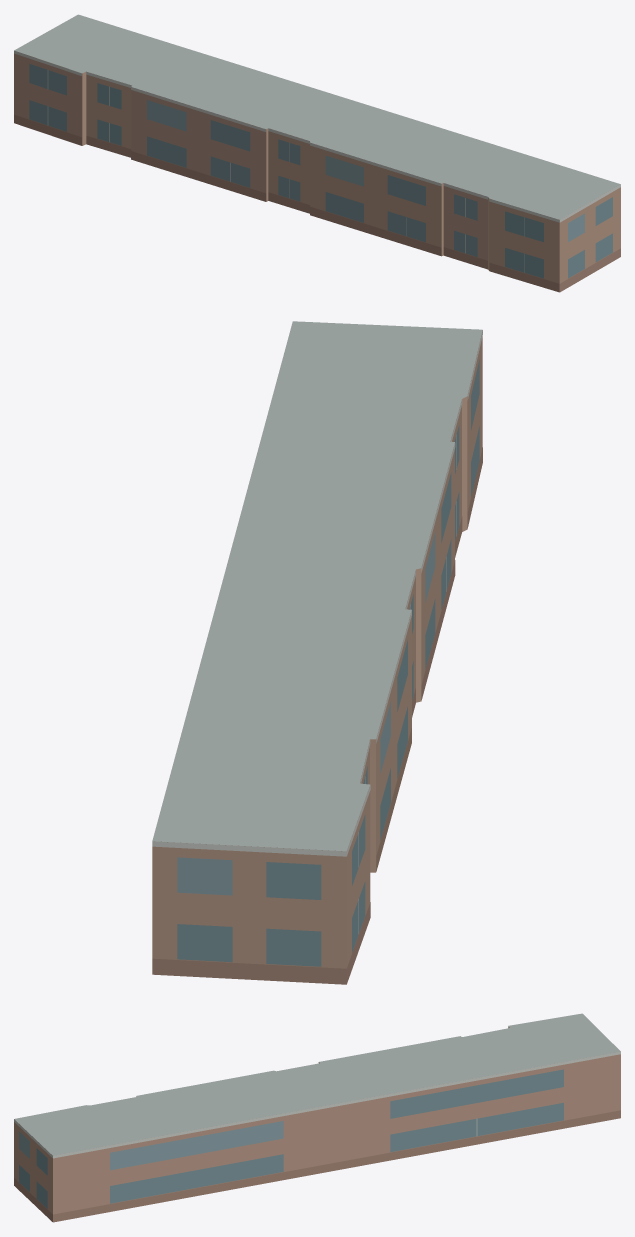
File: survey-upis-32509050.glb
The picture shows the model from 3 angles, top to bottom: view 1: azimuth 30°, elevation 25°; view 2: azimuth 150°, elevation 25°; view 3: azimuth 270°, elevation 25°; orthographic projection. The views are drawn at different scales.
Parts seen in each view (by area): view 1: survey-upis-32509050.tmp; view 2: survey-upis-32509050.tmp; view 3: survey-upis-32509050.tmp.
Boxes of the visible parts, left/top/right/bottom form: survey-upis-32509050.tmp: left=14, top=14, right=620, bottom=292; survey-upis-32509050.tmp: left=152, top=321, right=482, bottom=984; survey-upis-32509050.tmp: left=14, top=1013, right=620, bottom=1222.
Size of the model in its own units: 27.95 by 6.1 by 50.34.
